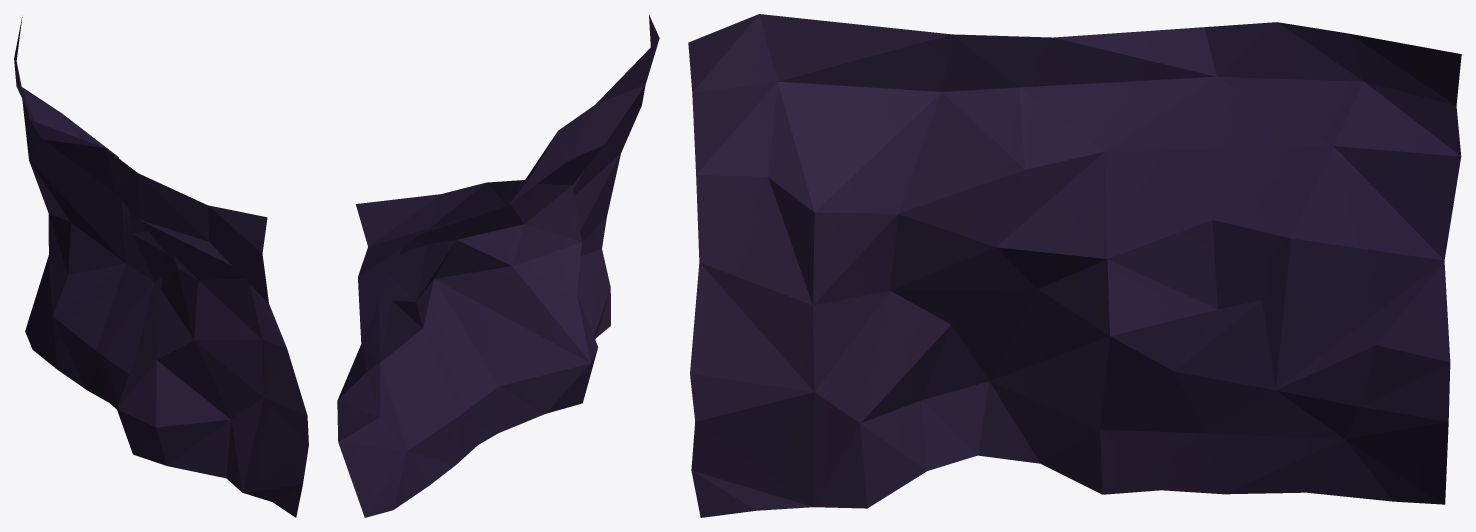
Rendered from CaveWall02.fbx.
3 renders of one model, left to right at view 1: azimuth 30°, elevation 25°; view 2: azimuth 150°, elevation 25°; view 3: azimuth 270°, elevation 25°, orthographic. The views are drawn at different scales.
Visible parts, largest first — view 1: Plane.051; view 2: Plane.051; view 3: Plane.051.
Boxes of the visible parts, x1=… form: Plane.051: x1=14, y1=17, x2=308, y2=517; Plane.051: x1=337, y1=15, x2=659, y2=517; Plane.051: x1=688, y1=14, x2=1461, y2=517.
Bounding box in the file's own units: 505 × 1213 × 1861.
